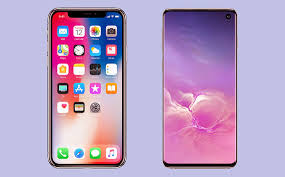iphone: (156, 3, 237, 168), (46, 3, 127, 168)
iphone10: (46, 5, 127, 170), (158, 5, 239, 170)
